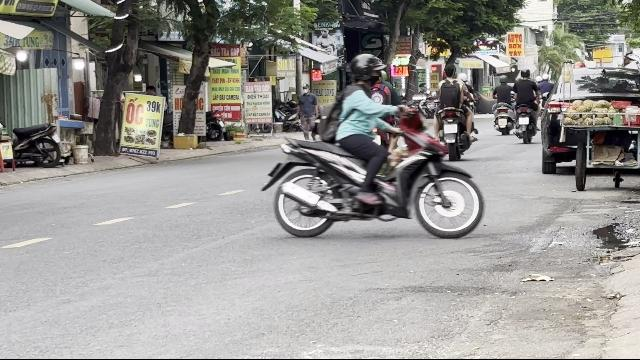helmet: (348, 53, 386, 89)
motorcyclist: (260, 49, 488, 241)
